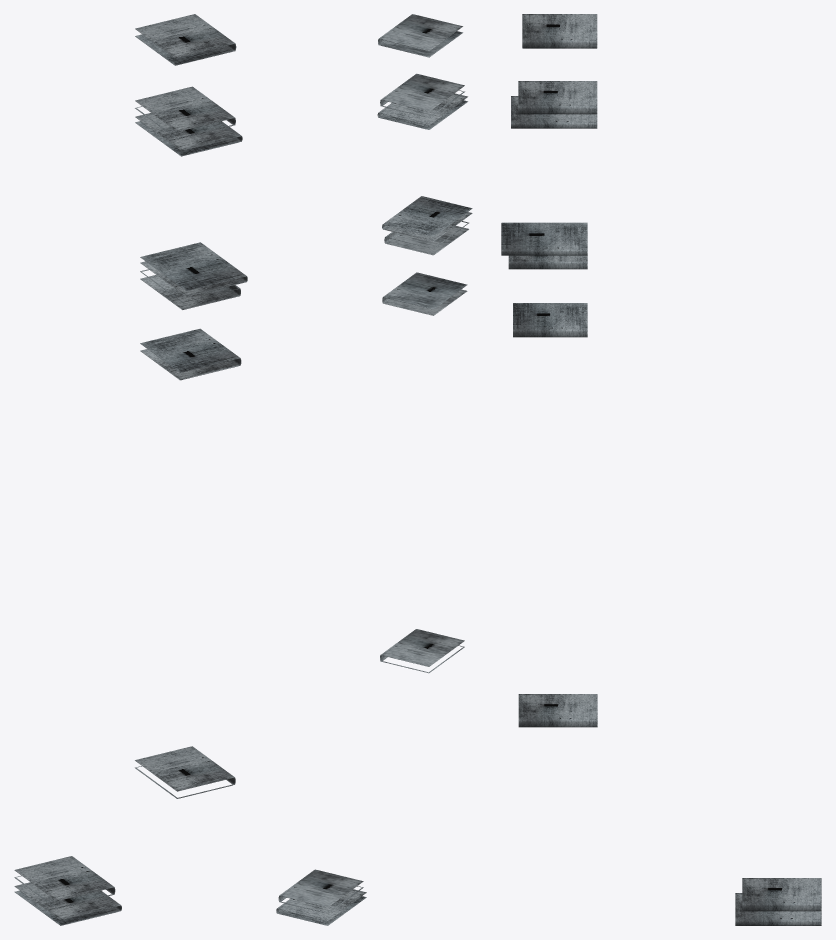
The model's file is bookshelf_5.obj.
3 renders of one model, left to right at view 1: azimuth 30°, elevation 25°; view 2: azimuth 150°, elevation 25°; view 3: azimuth 270°, elevation 25°, orthographic. The views are drawn at different scales.
Size of the model in its own units: 0.2927 by 4.33 by 1.42.
